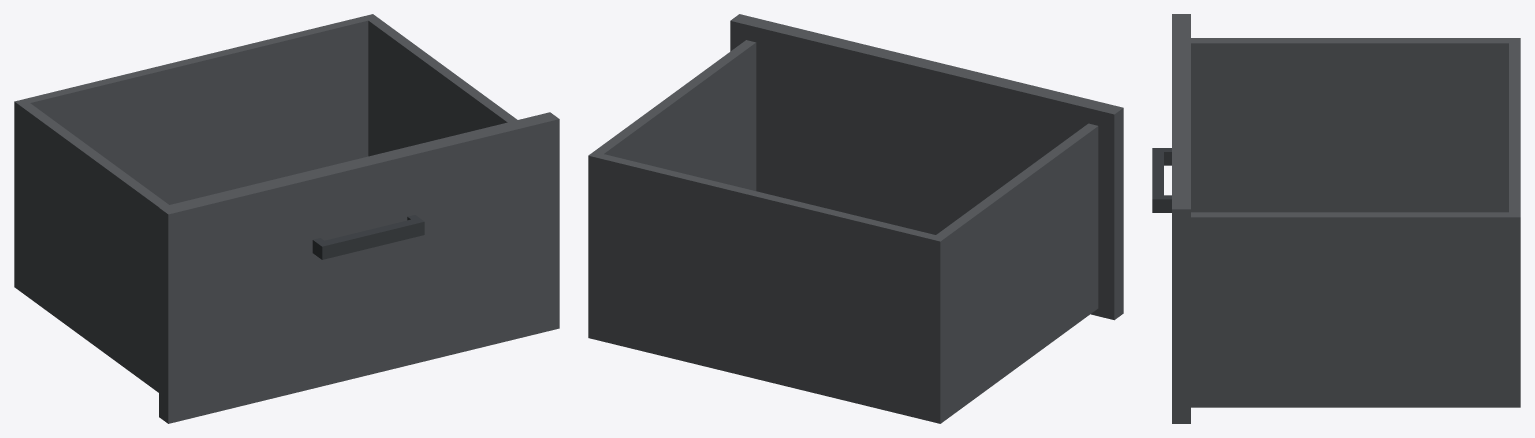
The model's file is BathroomDoor_C3_03.fbx.
3 renders of one model, left to right at view 1: azimuth 30°, elevation 25°; view 2: azimuth 150°, elevation 25°; view 3: azimuth 270°, elevation 25°, orthographic. The views are drawn at different scales.
Parts seen in each view (by area): view 1: BathroomDoor_C3_03; view 2: BathroomDoor_C3_03; view 3: BathroomDoor_C3_03.
Part boxes in pixels (left/top/right/bottom): BathroomDoor_C3_03: left=14, top=14, right=559, bottom=423; BathroomDoor_C3_03: left=588, top=14, right=1123, bottom=423; BathroomDoor_C3_03: left=1152, top=14, right=1520, bottom=423.
Bounding box in the file's own units: 60 × 30.7 × 47.76.
